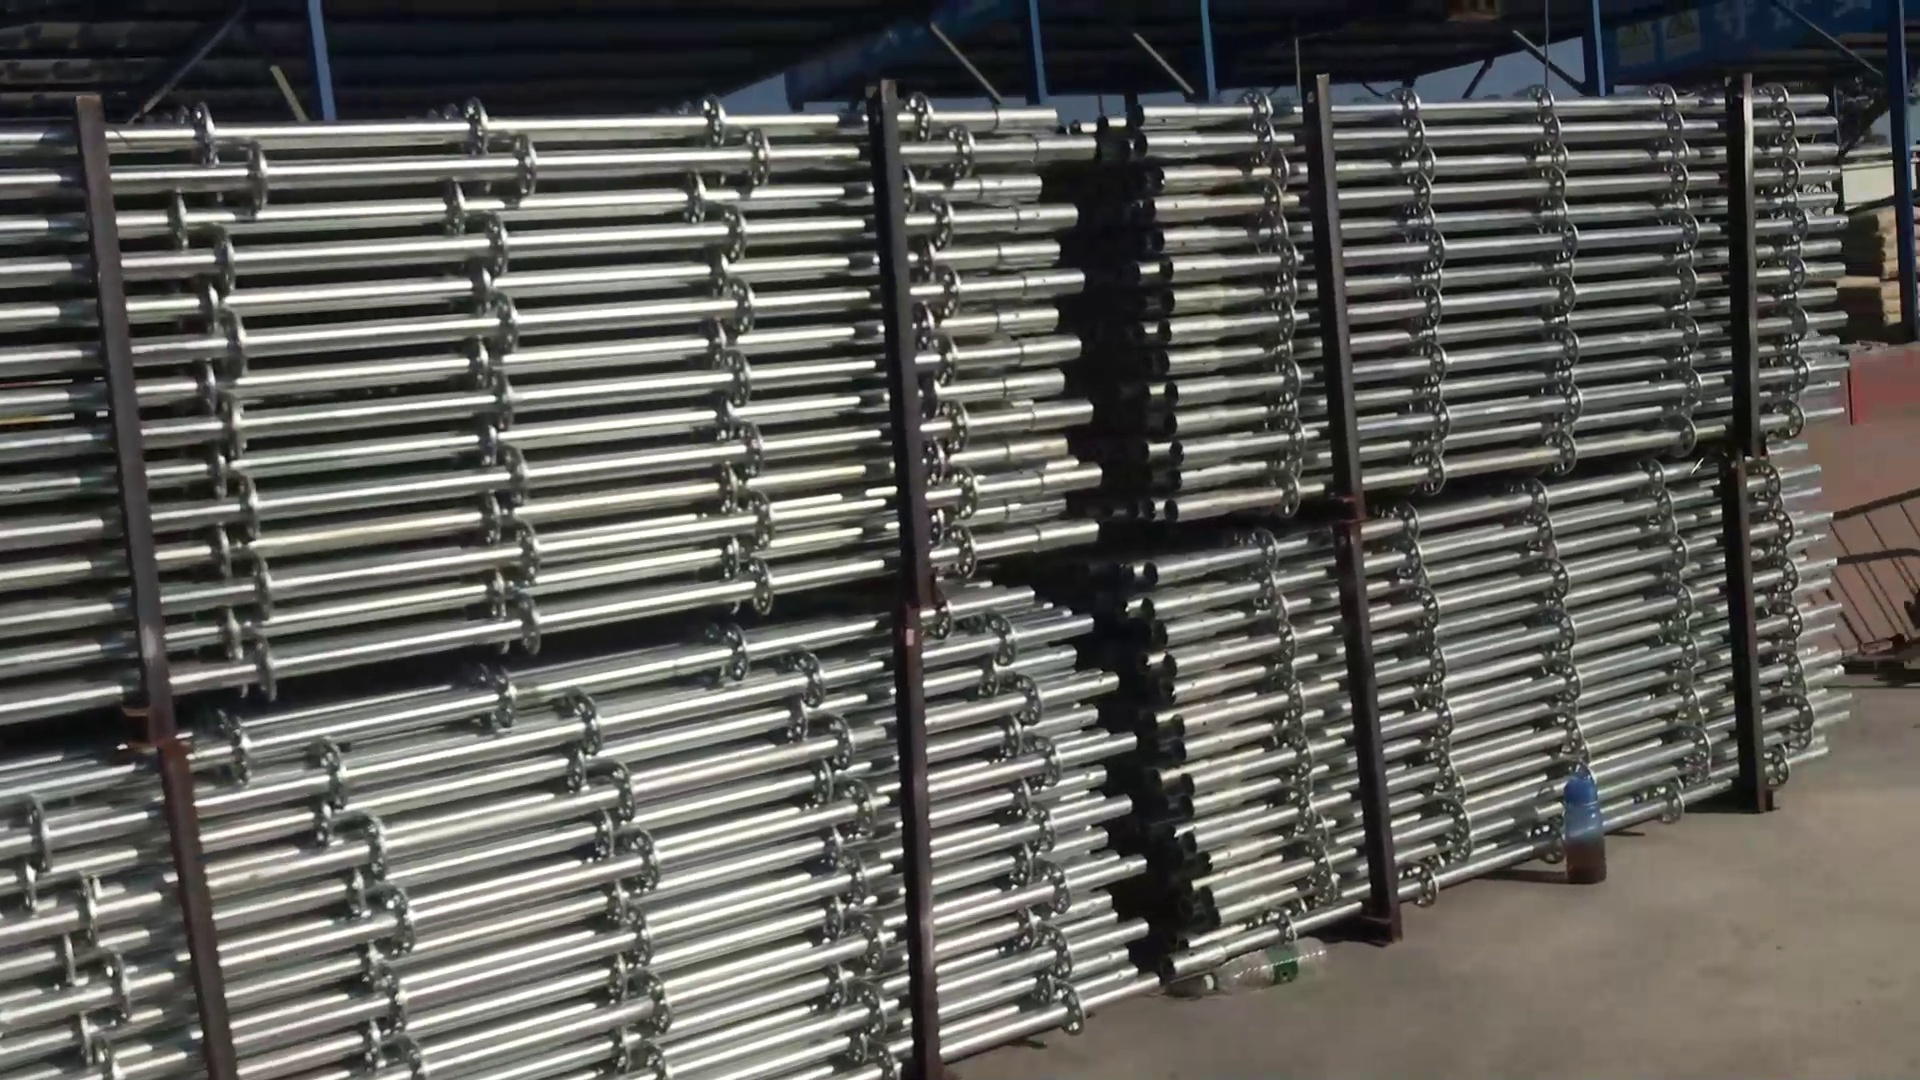scaffold: (16, 99, 1164, 1080), (1127, 83, 1851, 967)
